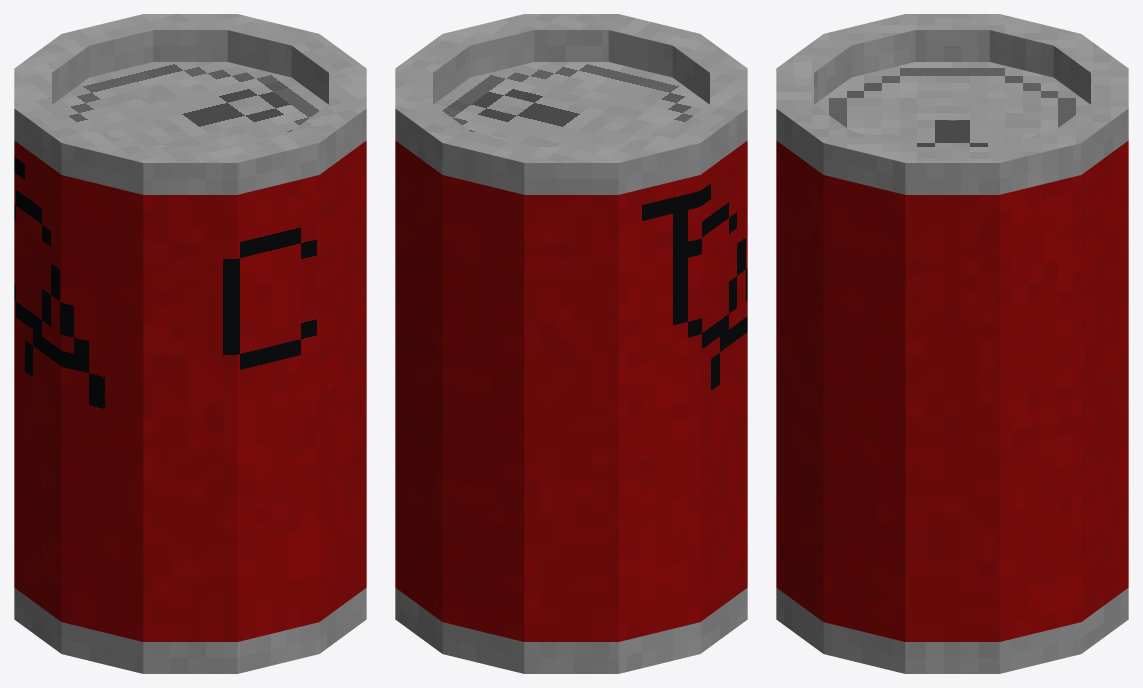
Rendered from foodCane.gltf.
3 views of the same model, side by side, from view 1: azimuth 30°, elevation 25°; view 2: azimuth 150°, elevation 25°; view 3: azimuth 270°, elevation 25° (orthographic).
Parts seen in each view (by area): view 1: tube; view 2: tube; view 3: tube.
Boxes of the visible parts, bbox=[...] form: tube: bbox=[14, 14, 366, 673]; tube: bbox=[395, 14, 747, 673]; tube: bbox=[776, 14, 1128, 673].
Bounding box in the file's own units: 0.625 × 1 × 0.625.
Materials: 1 (1 with a texture image).
